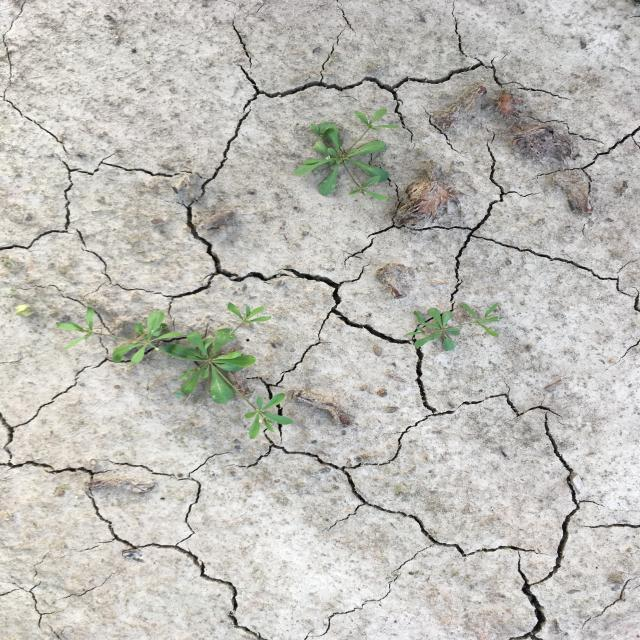Carpetweed: (54, 299, 296, 441), (291, 107, 402, 203), (402, 299, 503, 352)
